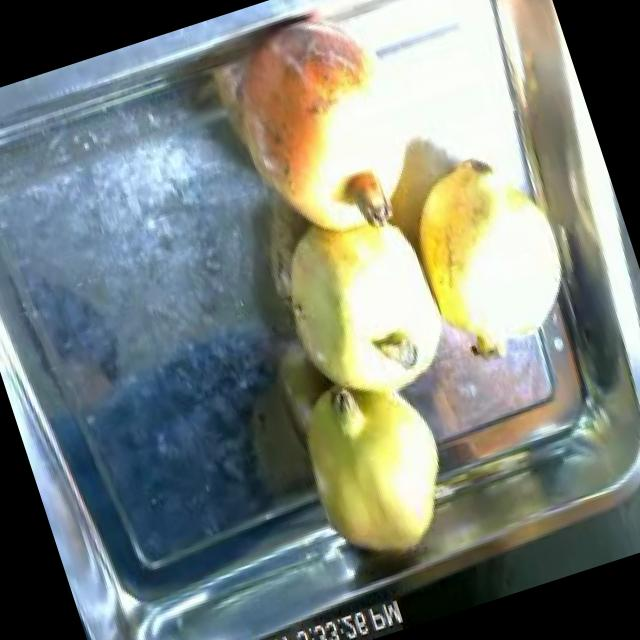fruit: (194, 0, 444, 269), (383, 125, 594, 377), (250, 180, 463, 426), (274, 345, 474, 581)
